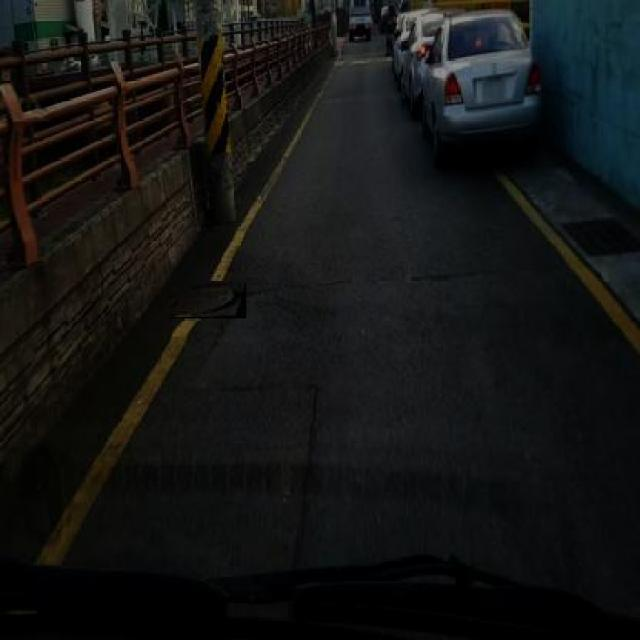Manhole: (569, 212, 634, 257), (169, 283, 246, 319)
